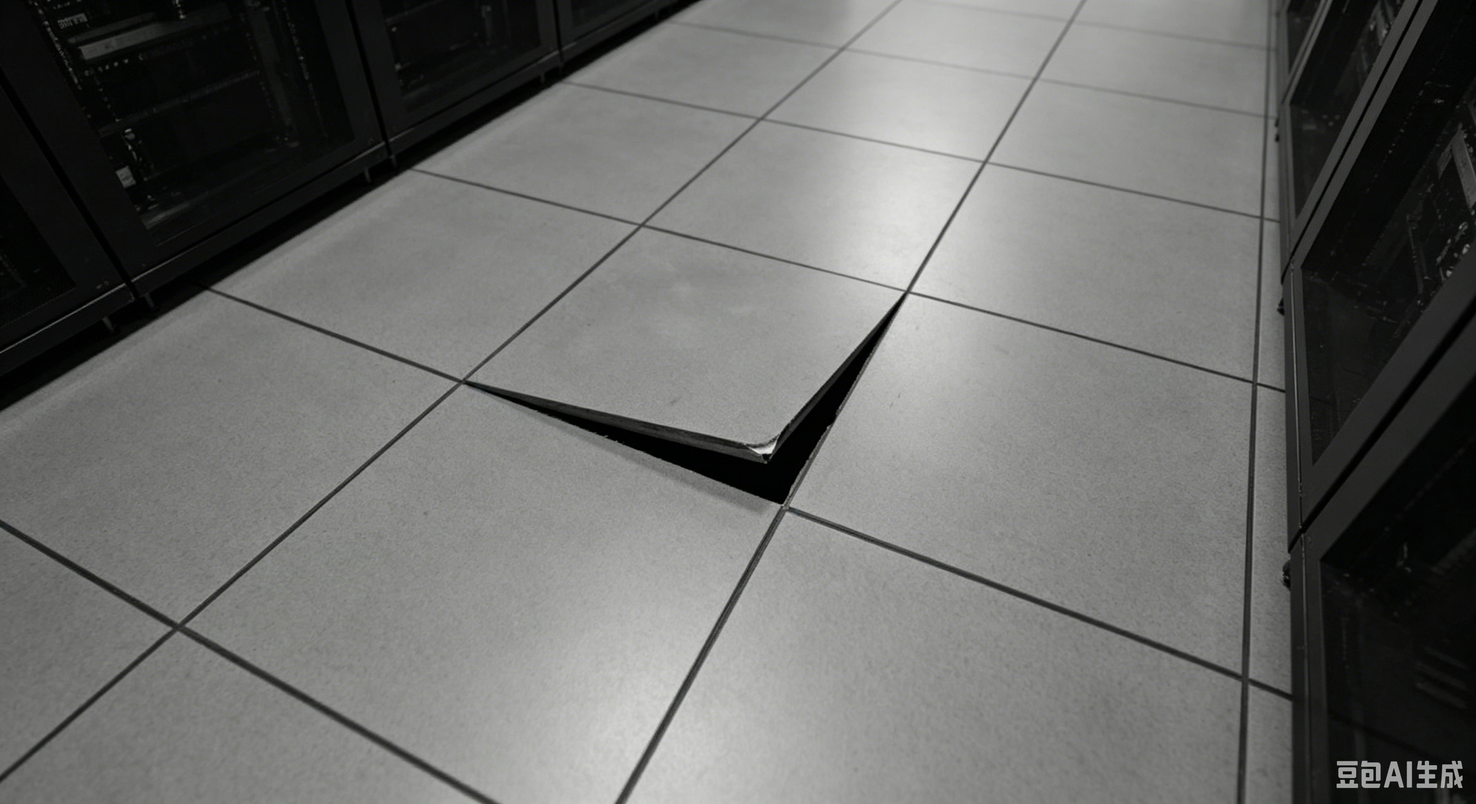floor_defect: (477, 370, 792, 510), (793, 272, 911, 485)
